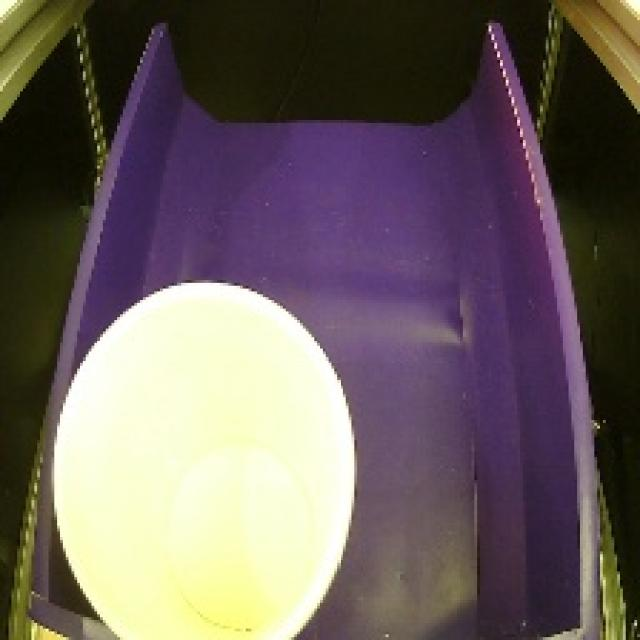cups: (44, 271, 364, 640)
